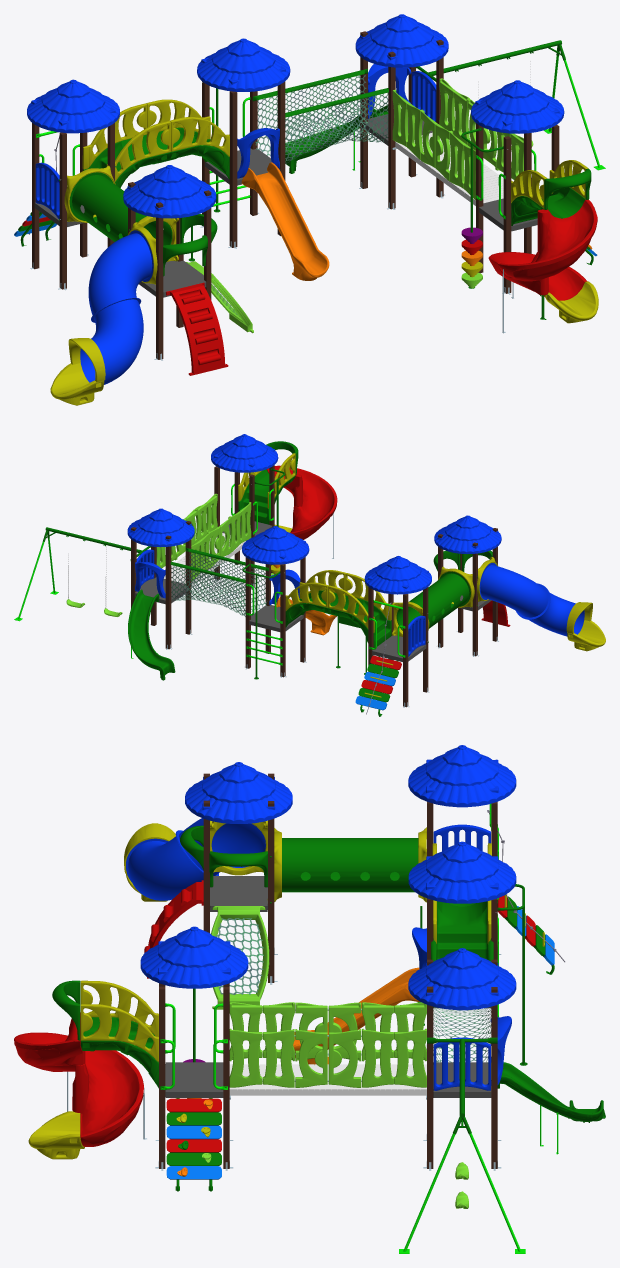
3 renders of one model, top to bottom at view 1: azimuth 30°, elevation 25°; view 2: azimuth 150°, elevation 25°; view 3: azimuth 270°, elevation 25°, orthographic. The views are drawn at different scales.
Visible parts, largest first — view 1: object 2, object 3, object 4, object 12, object 5, TOLDO M2.002, TOLDO M2.003, TOLDO M2.004, TOLDO M2.001, object 9, LATERAL M1.002, COLUNA MAD PLAST 9 X 9CM.013 (+26 smaller); view 2: object 2, object 4, object 3, object 12, TOLDO M2.003, TOLDO M2.002, TOLDO M2.001, TOLDO M2.004, object 5, object 9, RAMPA DE NO M3, PRANCHA.001 (+20 smaller); view 3: object 3, object 2, object 4, TOLDO M2.002, TOLDO M2.003, TOLDO M2.004, TOLDO M2.001, object 9, object 12, RAMPA DE AGARRA.002, PRANCHA.002, LATERAL M1.005 (+18 smaller).
Part boxes in pixels (box(x1,y1,x2,y2)): object 2: box(35, 38, 598, 405); object 3: box(166, 78, 597, 375); object 4: box(69, 104, 591, 245); object 12: box(255, 40, 565, 163); object 5: box(241, 68, 388, 280); TOLDO M2.002: box(27, 79, 119, 133); TOLDO M2.003: box(471, 80, 564, 133); TOLDO M2.004: box(355, 14, 448, 67); TOLDO M2.001: box(123, 165, 216, 218); object 9: box(392, 56, 605, 205); LATERAL M1.002: box(106, 120, 170, 181); COLUNA MAD PLAST 9 X 9CM.013: box(229, 91, 237, 247); object 2: box(135, 524, 605, 656); object 4: box(128, 441, 470, 680); object 3: box(156, 465, 510, 626); object 12: box(43, 527, 267, 616); TOLDO M2.003: box(211, 434, 278, 472); TOLDO M2.002: box(364, 556, 431, 594); TOLDO M2.001: box(434, 515, 501, 553); TOLDO M2.004: box(127, 508, 194, 547); object 5: box(131, 548, 336, 658); object 9: box(14, 533, 245, 621); RAMPA DE NO M3: box(355, 656, 398, 716); PRANCHA.001: box(358, 655, 401, 702); object 3: box(14, 880, 426, 1146); object 2: box(28, 818, 516, 1159); object 4: box(52, 838, 605, 1122); TOLDO M2.002: box(408, 745, 516, 807); TOLDO M2.003: box(140, 926, 248, 988); TOLDO M2.004: box(408, 948, 516, 1010); TOLDO M2.001: box(185, 762, 292, 823); object 9: box(229, 1064, 525, 1253); object 12: box(427, 1007, 497, 1134); RAMPA DE AGARRA.002: box(166, 1098, 221, 1191); PRANCHA.002: box(166, 1098, 221, 1165); LATERAL M1.005: box(80, 1004, 158, 1062).
Bounding box in the file's own units: 12.46 × 3.55 × 8.37.
71 materials, 5 textured.
